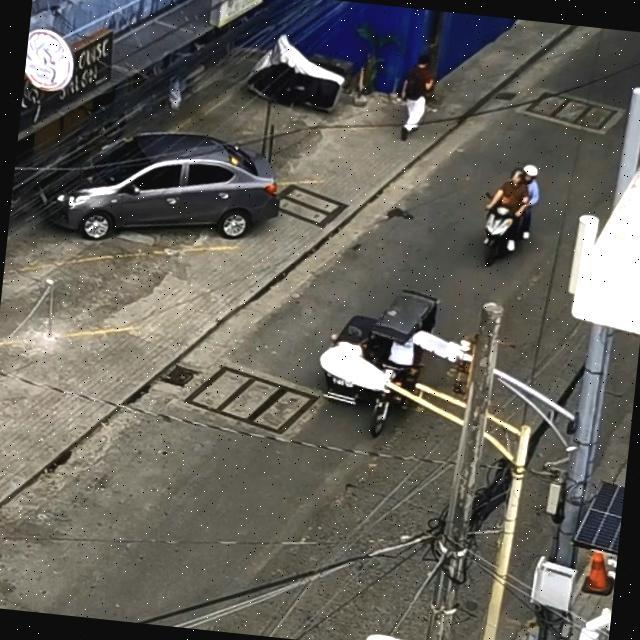Tricycle: (310, 283, 456, 434)
